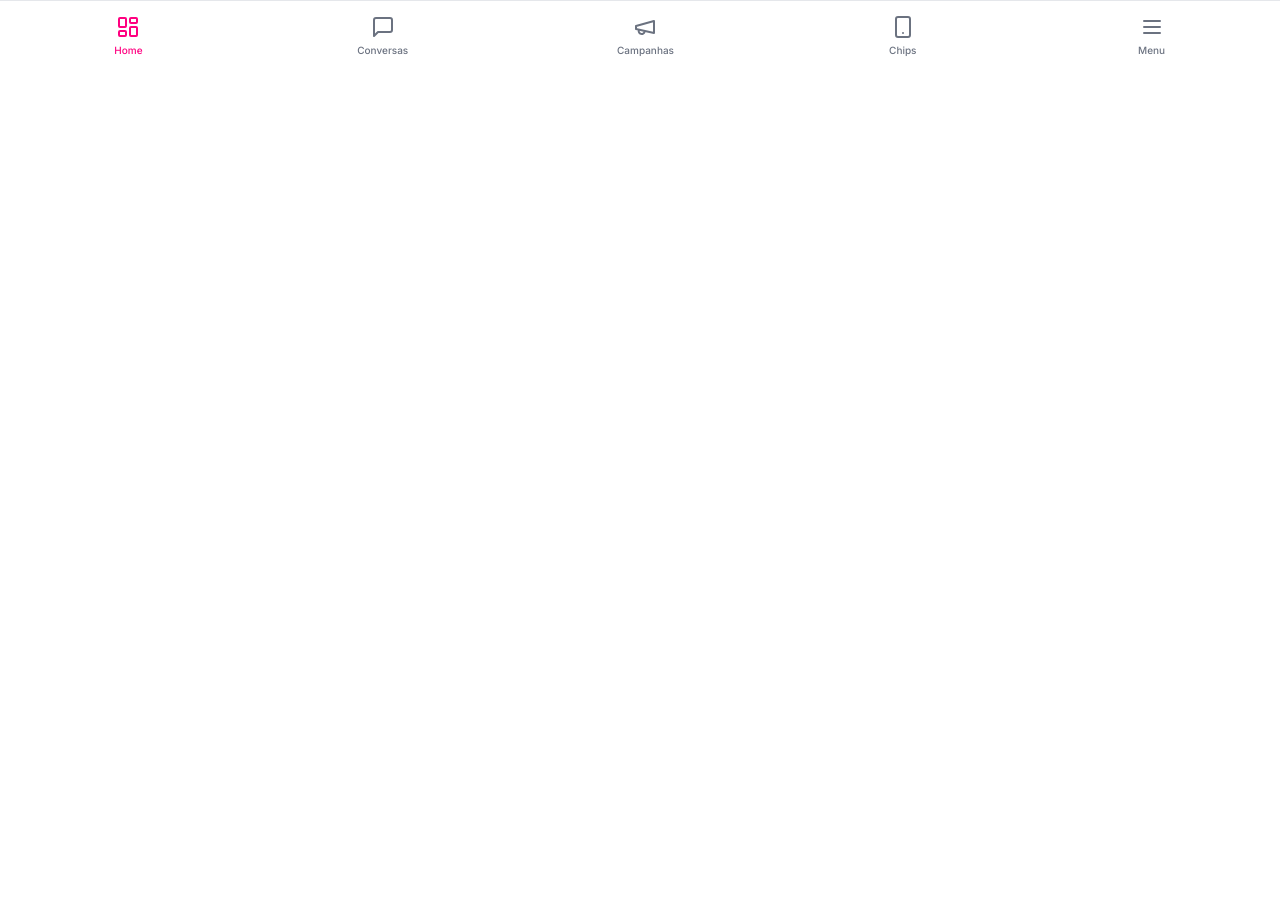
Test: BottomNav › abre drawer quando Menu e clicado
The width and height of the screenshot is (1280, 900).
Click the button with aria-label "abrir menu": (1152, 36) [1124,7,1180,66]
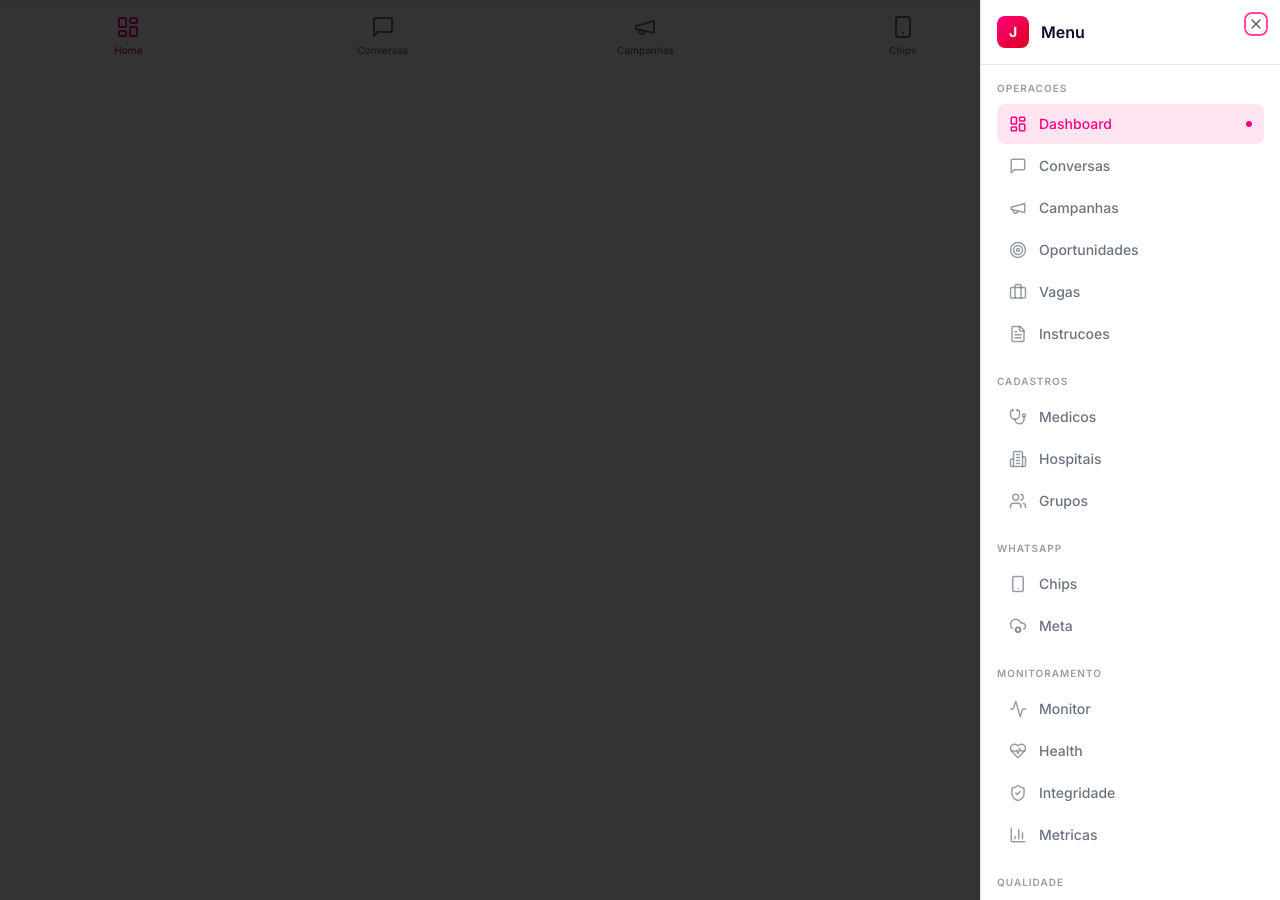
Result: the heading "Operacoes" is shown at [997,82,1067,94]
